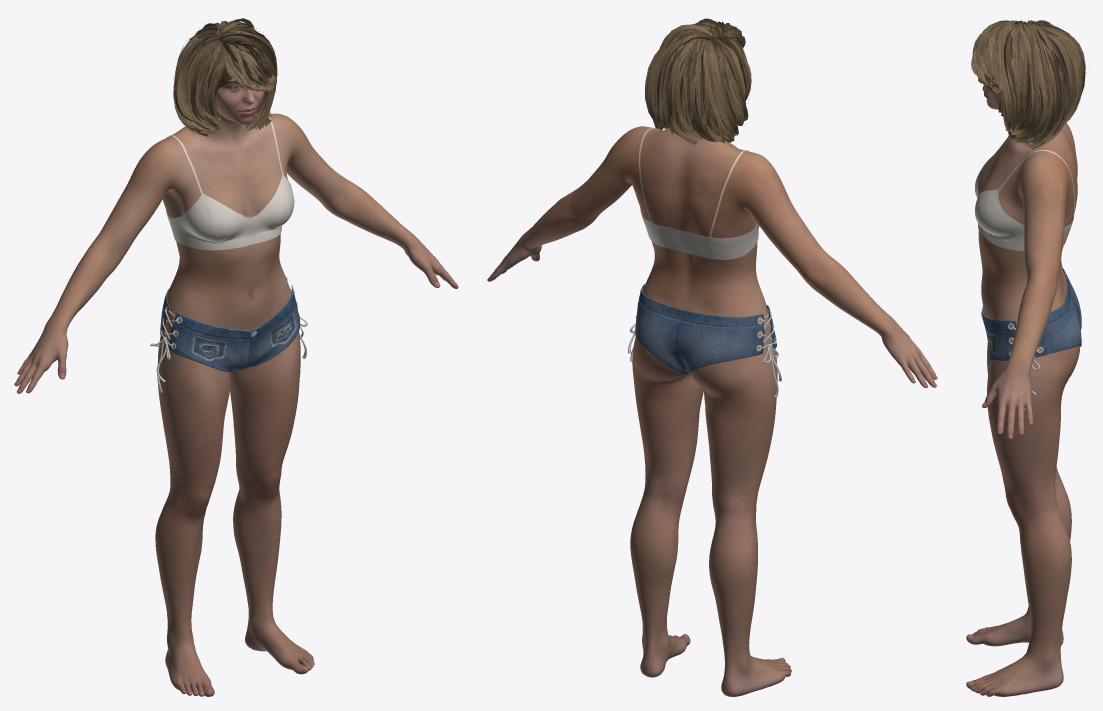
File: female-pale-shorts-croptop.glb
The picture shows the model from 3 angles, left to right: view 1: azimuth 30°, elevation 25°; view 2: azimuth 150°, elevation 25°; view 3: azimuth 270°, elevation 25°; orthographic projection.
Visible parts, largest first — view 1: Body, Hair Spring Style Bob Genesis 9, Clothing Summer Casual Jeans, Clothing SC Simple Crop Top G9; view 2: Body, Hair Spring Style Bob Genesis 9, Clothing Summer Casual Jeans, Clothing SC Simple Crop Top G9; view 3: Body, Hair Spring Style Bob Genesis 9, Clothing Summer Casual Jeans, Clothing SC Simple Crop Top G9.
Part boxes in pixels (x1,y1,x2,y2): Body: (14, 78, 458, 696); Hair Spring Style Bob Genesis 9: (173, 18, 277, 136); Clothing Summer Casual Jeans: (150, 277, 307, 392); Clothing SC Simple Crop Top G9: (166, 117, 294, 250); Body: (487, 126, 937, 696); Hair Spring Style Bob Genesis 9: (645, 18, 751, 144); Clothing Summer Casual Jeans: (628, 284, 781, 397); Clothing SC Simple Crop Top G9: (638, 127, 759, 259); Body: (966, 78, 1080, 696); Hair Spring Style Bob Genesis 9: (971, 20, 1085, 149); Clothing Summer Casual Jeans: (981, 268, 1081, 409); Clothing SC Simple Crop Top G9: (975, 150, 1074, 251).
Bounding box in the file's own units: 1.28 × 1.79 × 0.3045.
30 materials, 30 textured.
